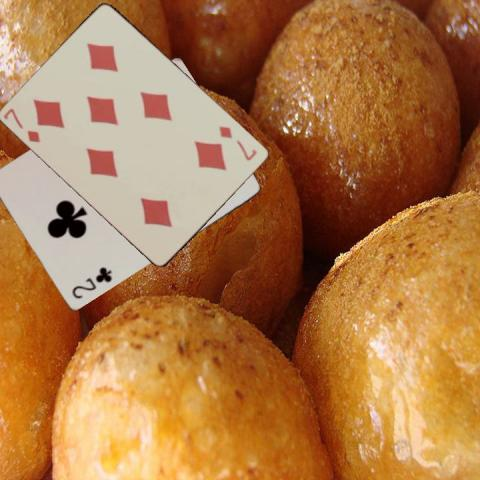2c: (69, 264, 113, 301)
7d: (216, 122, 259, 162), (1, 105, 42, 145)
